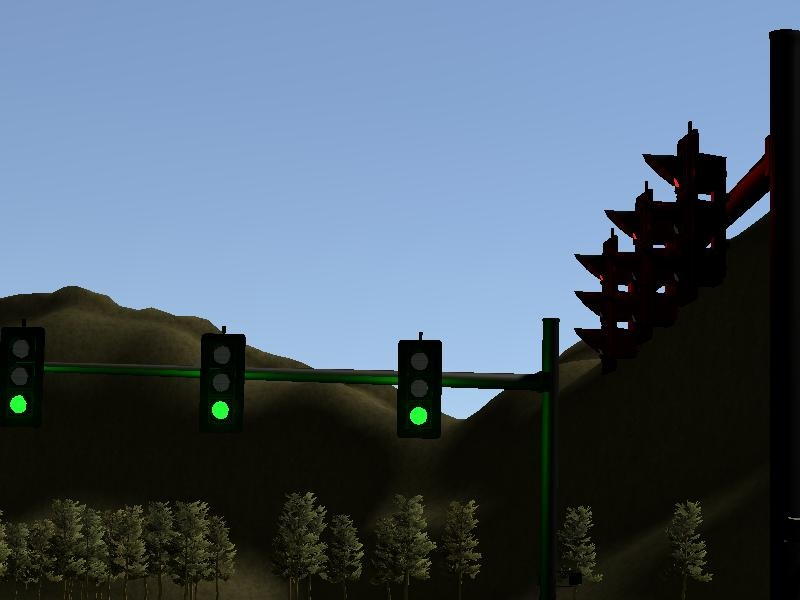Green: (198, 332, 246, 436), (1, 324, 46, 432), (397, 340, 441, 440)
